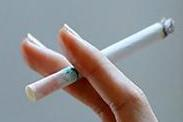smoke: (25, 17, 174, 103)
